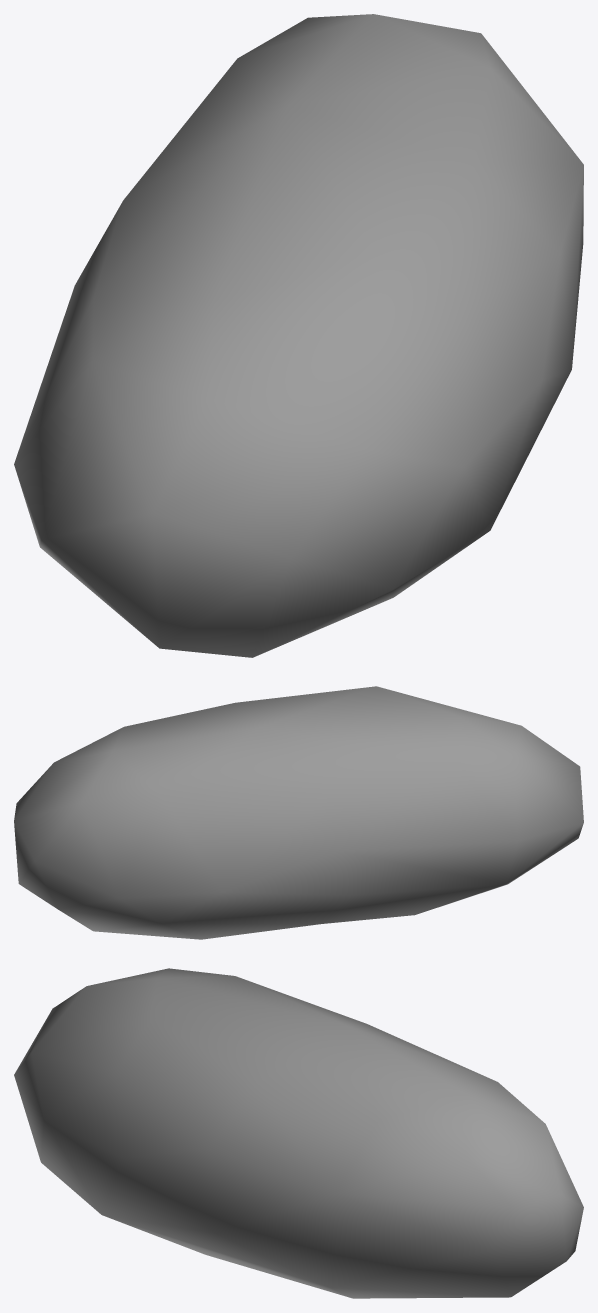
The model's file is SoftRock_10.fbx.
The picture shows the model from 3 angles, top to bottom: view 1: azimuth 30°, elevation 25°; view 2: azimuth 150°, elevation 25°; view 3: azimuth 270°, elevation 25°; orthographic projection. The views are drawn at different scales.
Parts seen in each view (by area): view 1: SoftRock_10; view 2: SoftRock_10; view 3: SoftRock_10.
Boxes of the visible parts, x1=… form: SoftRock_10: x1=14, y1=14, x2=583, y2=657; SoftRock_10: x1=14, y1=686, x2=583, y2=939; SoftRock_10: x1=14, y1=968, x2=583, y2=1298.
Bounding box in the file's own units: 98.85 × 44.12 × 100.
